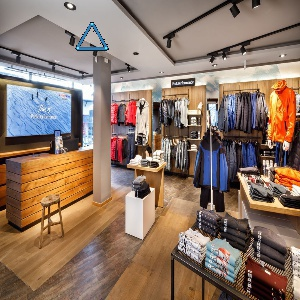triangle: (71, 20, 111, 54)
